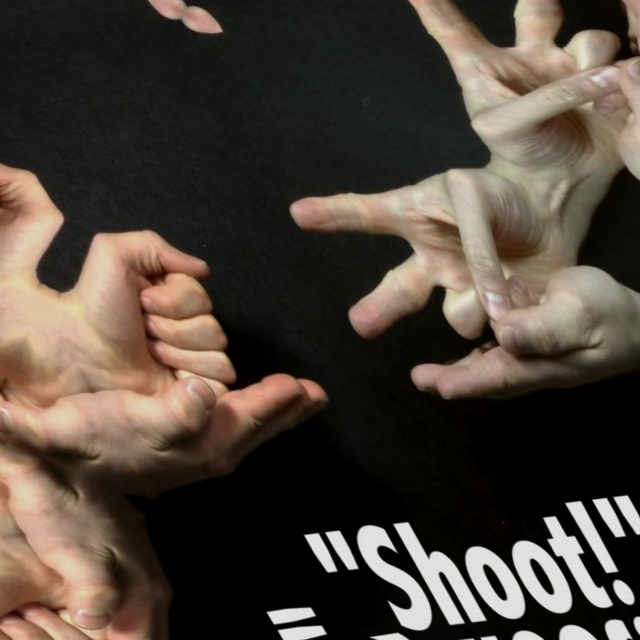Rock: (0, 65, 103, 357)
Scissors: (0, 0, 46, 143)
